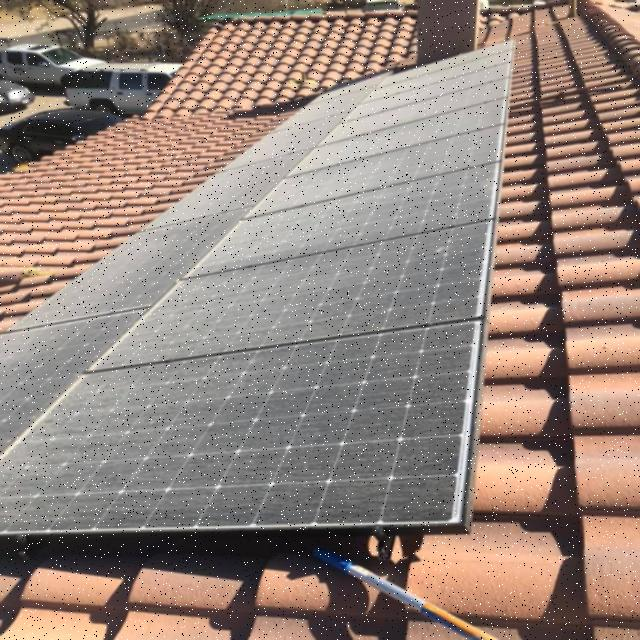dusty: (12, 39, 514, 533)
